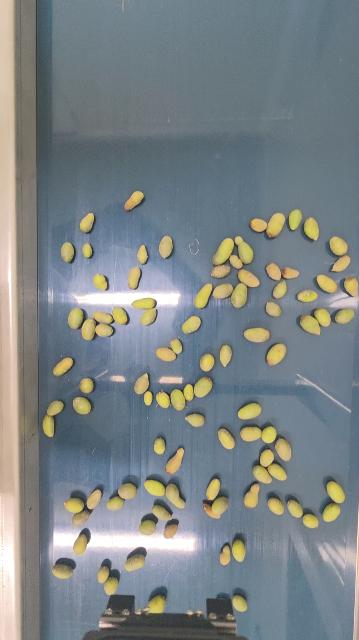Baby Potato: (213, 237, 235, 266), (325, 479, 347, 504), (266, 342, 288, 367), (165, 483, 186, 509), (166, 447, 185, 475), (243, 325, 271, 344), (299, 313, 322, 336), (237, 267, 261, 289), (274, 436, 294, 462), (267, 212, 286, 239), (195, 282, 213, 310), (238, 401, 263, 421), (217, 426, 237, 451), (209, 495, 229, 520), (231, 282, 249, 309), (244, 482, 262, 509), (124, 189, 145, 212), (303, 216, 321, 242), (193, 375, 213, 398), (316, 273, 339, 293), (52, 356, 73, 377), (124, 552, 146, 572), (237, 240, 254, 265), (268, 461, 288, 482), (252, 464, 273, 484), (329, 235, 348, 257), (67, 307, 85, 330), (231, 538, 247, 563), (322, 502, 341, 523), (313, 306, 332, 327), (330, 255, 352, 273), (52, 562, 74, 580), (240, 426, 263, 443), (131, 296, 157, 311), (158, 235, 174, 259), (170, 387, 186, 411), (72, 396, 92, 415), (335, 307, 356, 325), (144, 479, 166, 496), (63, 496, 85, 513), (212, 282, 234, 299), (182, 315, 201, 334), (206, 477, 221, 501), (288, 208, 303, 232), (265, 261, 283, 281), (267, 496, 285, 516), (261, 423, 278, 444), (60, 241, 76, 263), (86, 488, 102, 510), (343, 275, 359, 297), (156, 346, 178, 362), (219, 343, 233, 368), (134, 372, 149, 395), (118, 482, 137, 500), (231, 594, 249, 613), (112, 305, 129, 325), (94, 321, 114, 338), (149, 594, 166, 614), (287, 498, 304, 518), (152, 504, 172, 521), (42, 414, 56, 438), (273, 278, 289, 299), (127, 266, 141, 290), (81, 318, 96, 340), (79, 212, 94, 234), (73, 533, 88, 555), (259, 448, 276, 467), (155, 390, 171, 410), (210, 264, 231, 279), (185, 412, 206, 427), (93, 309, 114, 324), (140, 308, 157, 326), (71, 509, 89, 526), (200, 353, 216, 372), (163, 520, 179, 539), (297, 289, 318, 303), (140, 519, 157, 536), (303, 512, 320, 529), (265, 300, 282, 317), (46, 399, 64, 415), (106, 495, 124, 511), (220, 544, 233, 566), (104, 576, 119, 595), (250, 217, 269, 232), (93, 273, 108, 291), (282, 265, 300, 280), (79, 377, 94, 394), (97, 565, 110, 584), (169, 337, 183, 354), (229, 253, 243, 270), (153, 437, 166, 455), (137, 244, 148, 265), (183, 383, 194, 401), (203, 500, 213, 518), (81, 242, 92, 258), (142, 390, 153, 405), (234, 235, 246, 246)
